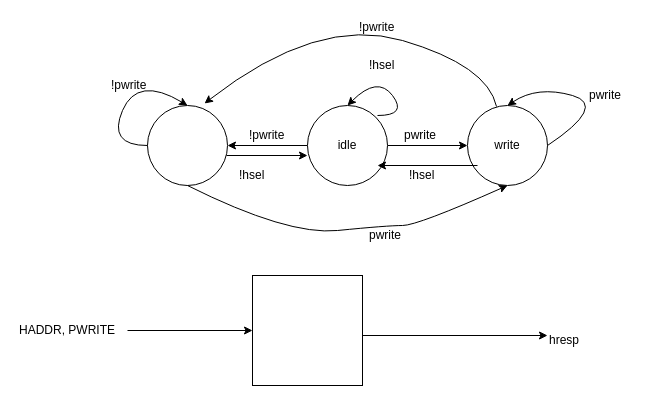
Some shapes in this 654 by 403 pixel diagram are drawn without their labels. The shapes that lost their labels are listed below. From the top down, each one's centre as x and y in pixels, then its label:
At pixel 187 145: "read".
At pixel 307 330: "COMB".
